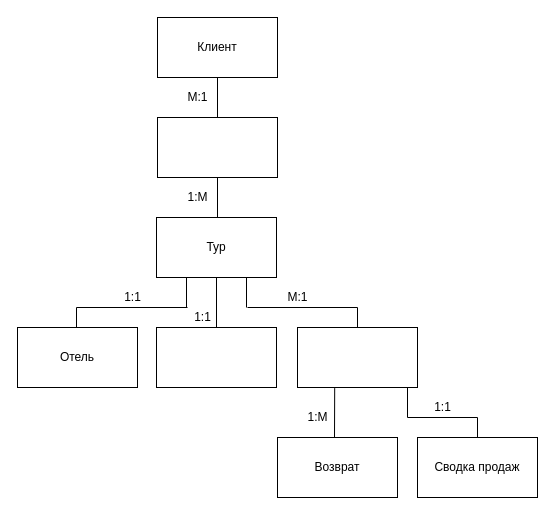
Image size: 555x515. Some labels were removed from this diagram. Each missing label, with the centre of its shape:
"Клиент тур" belongs at point 217,147.
"Скидка" belongs at point 216,357.
"Сотрудник" belongs at point 357,357.
